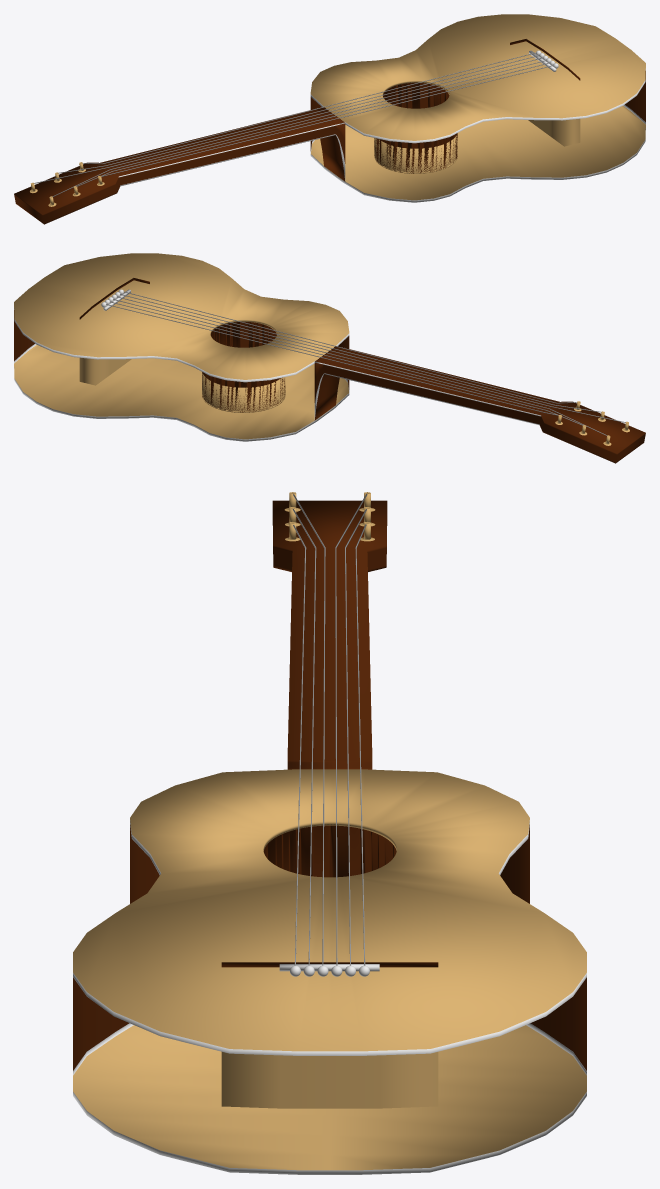
The model's file is guitare.fbx.
3 views of the same model, one above another, from view 1: azimuth 30°, elevation 25°; view 2: azimuth 150°, elevation 25°; view 3: azimuth 270°, elevation 25° (orthographic). The views are drawn at different scales.
Visible parts, largest first — view 1: Plane, c4, c3, c5, c2, c1, c6; view 2: Plane, c3, c4, c2, c5, c1, c6; view 3: Plane.
Part boxes in pixels (x1,y1,x2,y2): Plane: [14, 14, 645, 224]; c4: [34, 57, 543, 183]; c3: [52, 60, 546, 196]; c5: [58, 55, 539, 173]; c2: [77, 62, 549, 186]; c1: [101, 65, 553, 176]; c6: [82, 52, 536, 164]; Plane: [14, 253, 645, 463]; c3: [117, 296, 625, 422]; c4: [113, 299, 606, 435]; c2: [120, 294, 601, 412]; c5: [110, 301, 582, 425]; c1: [123, 291, 577, 403]; c6: [106, 304, 558, 415]; Plane: [73, 500, 586, 1174].
Bounding box in the file's own units: 98.84 × 10.68 × 37.
